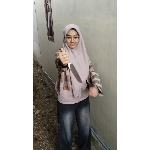Pisau: (59, 51, 85, 85)
